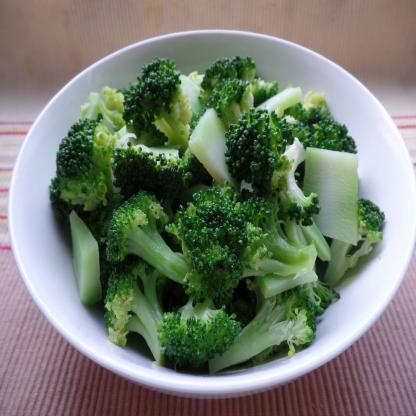broccoli: (48, 54, 388, 377)
